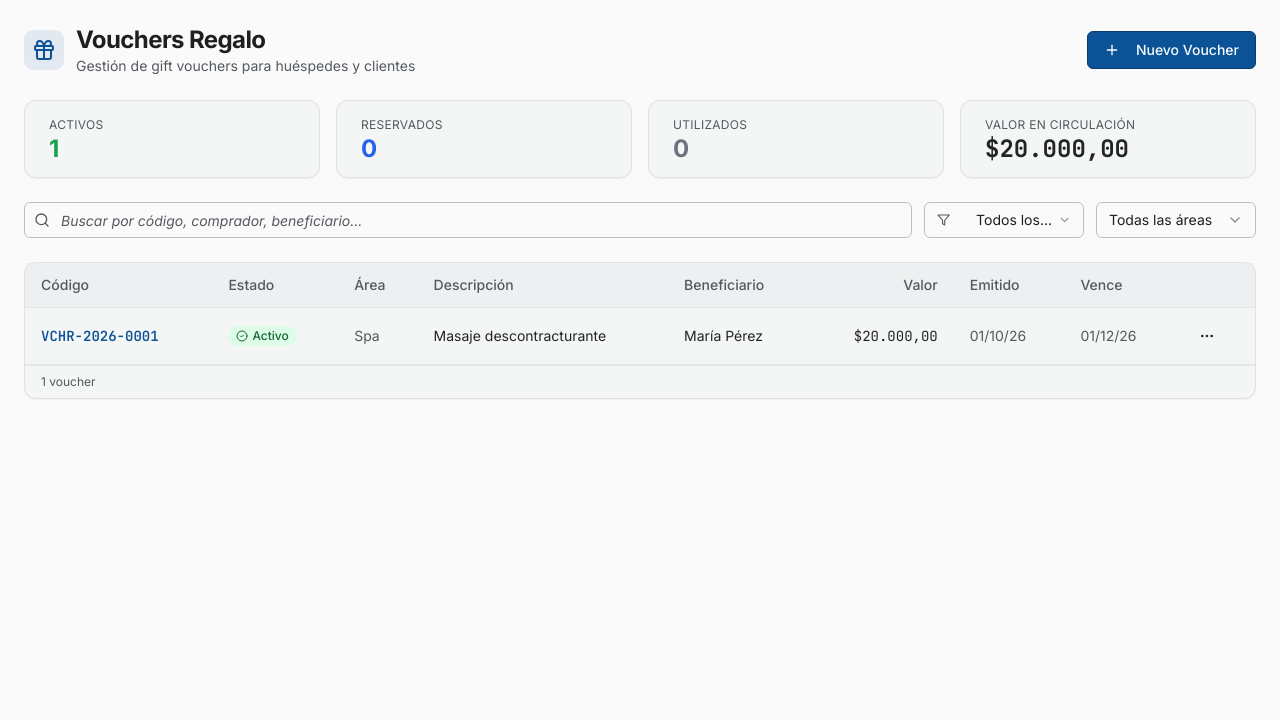
it: Vouchers — editar › permite guardar los valores originales y cerrar el editor
The image size is (1280, 720).
Step 1. Click the 2nd button → (1207, 336), box [1191,320,1223,352]
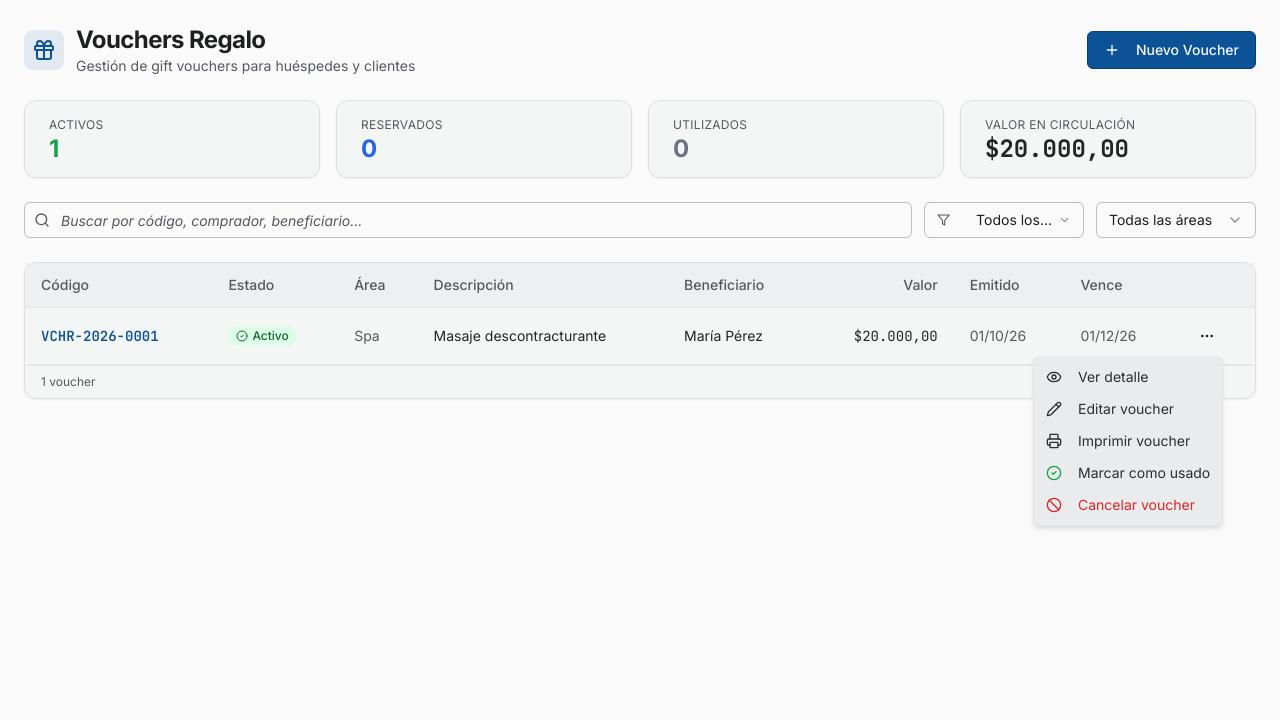
Step 2. Click the menu item "Editar voucher" → (1110, 408), box [1046,400,1174,417]
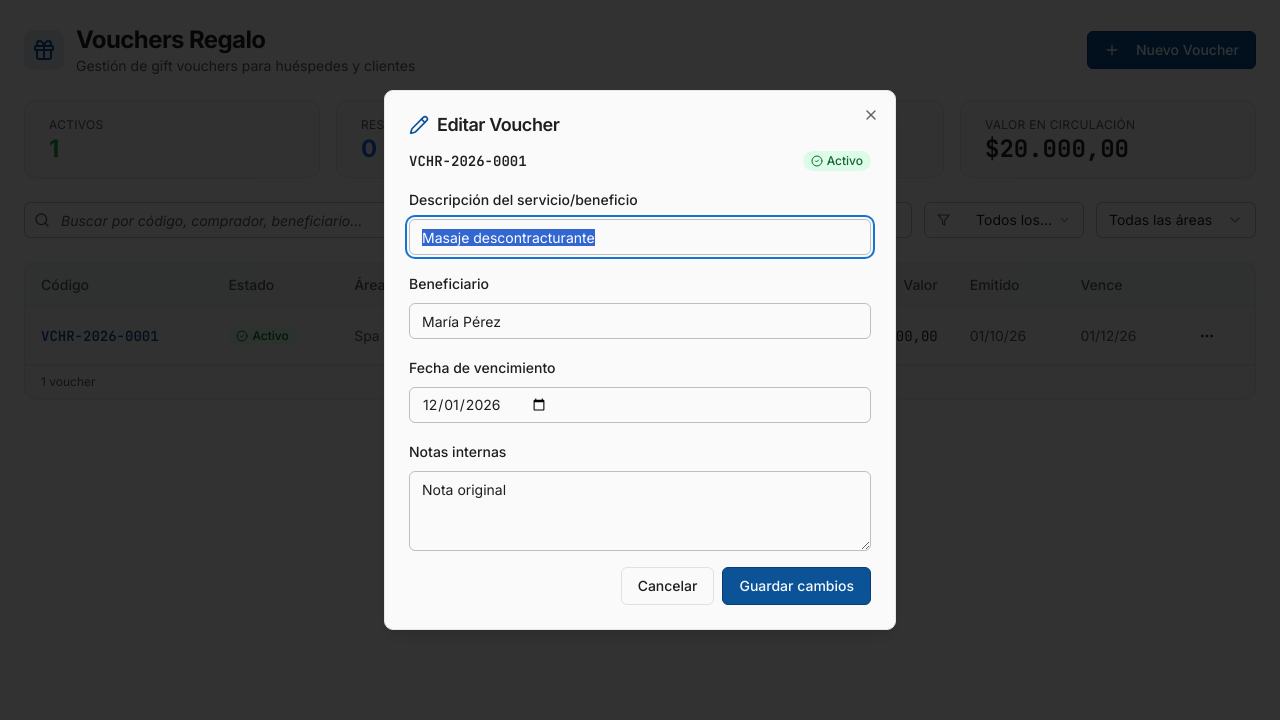
Step 3. Click the button with test id "button-save-edit" → (797, 586), box [722,567,871,605]
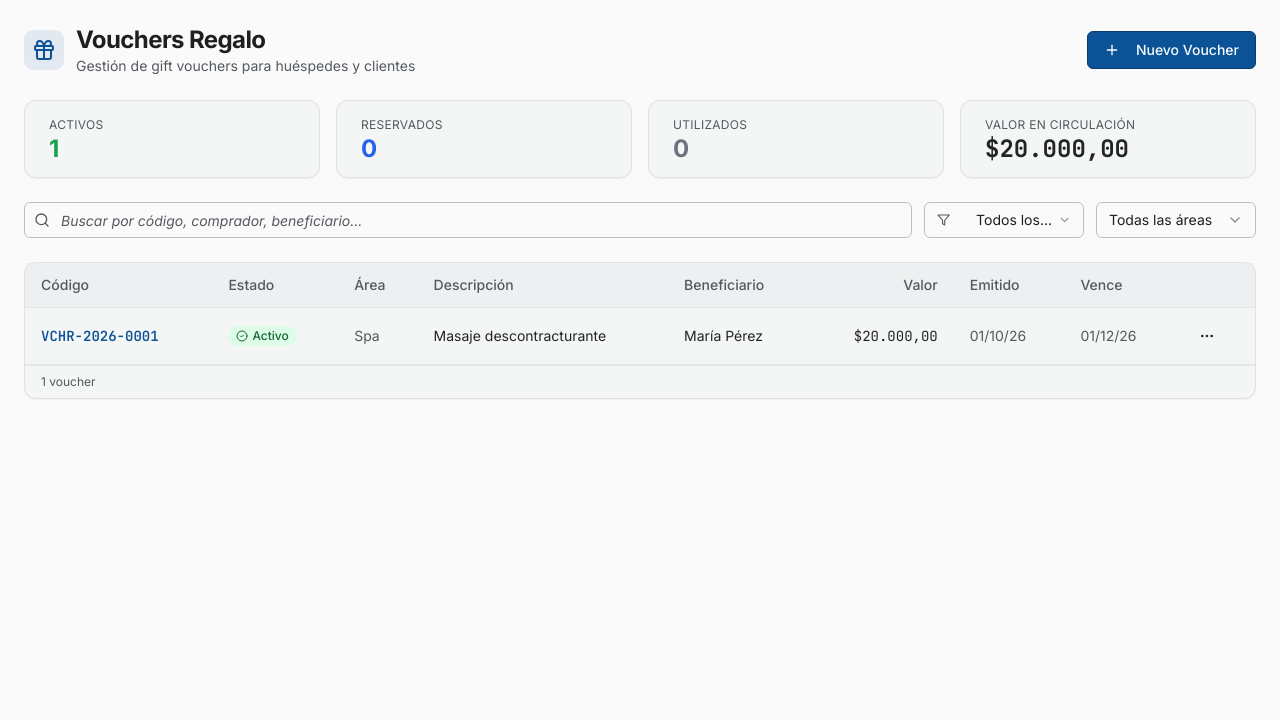
Now the button with test id "button-save-edit" is gone
